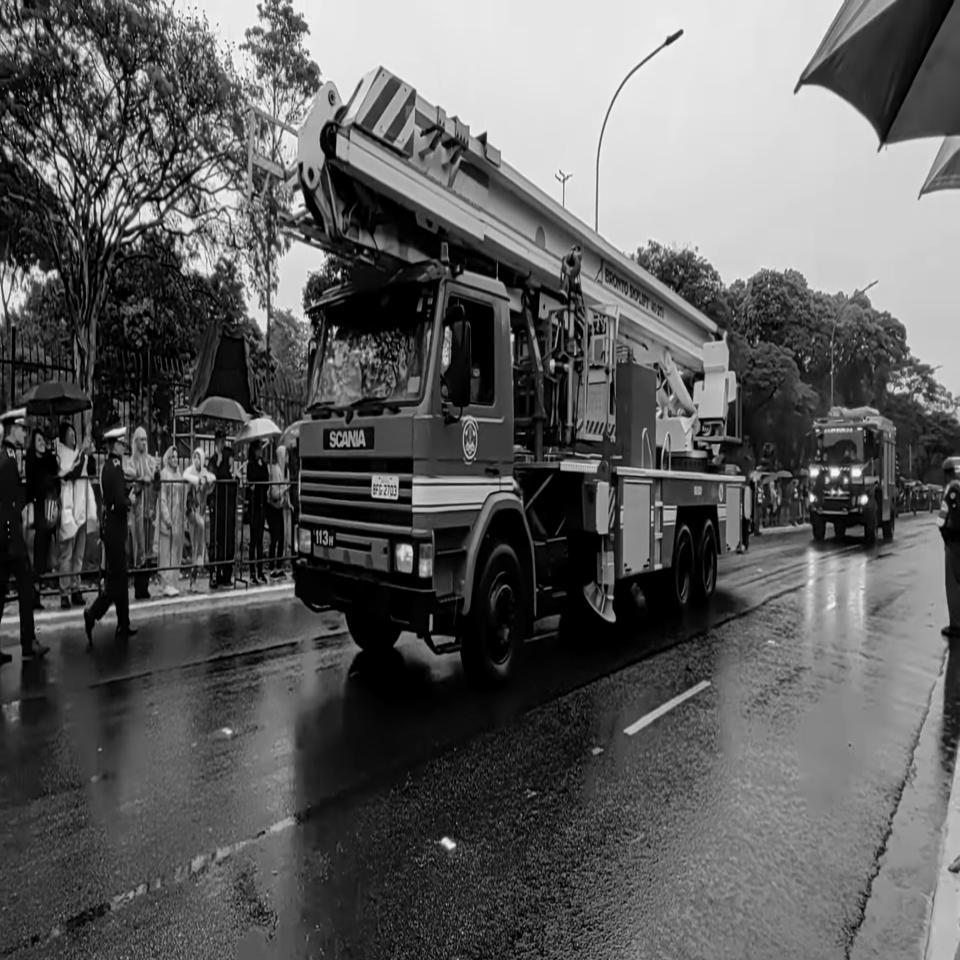bombeiro: (276, 61, 757, 693), (806, 405, 899, 546)
